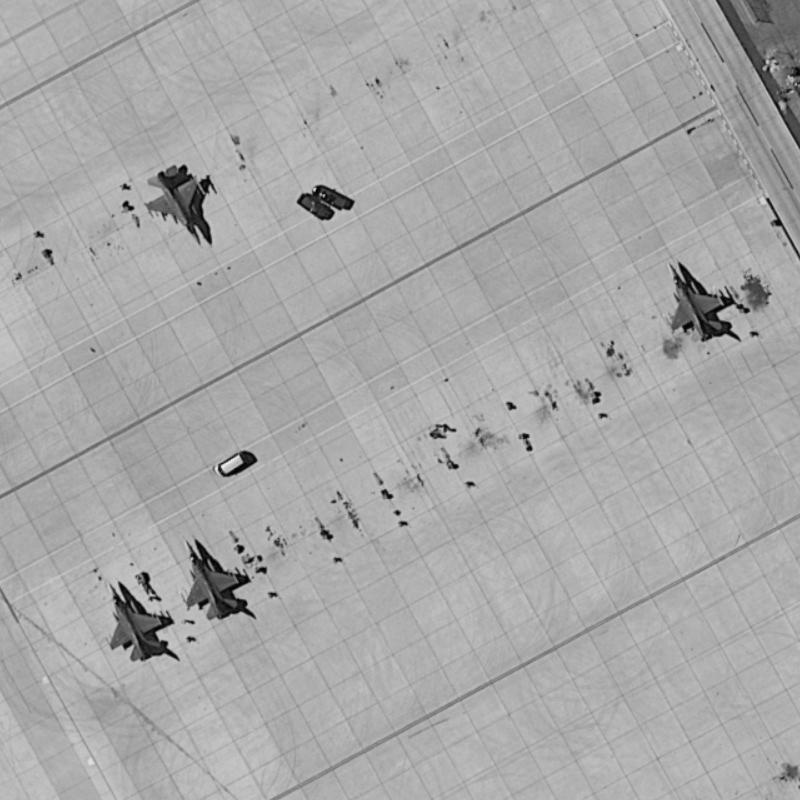A5: (139, 158, 208, 248), (179, 537, 245, 625), (100, 579, 168, 663), (661, 257, 728, 339)
